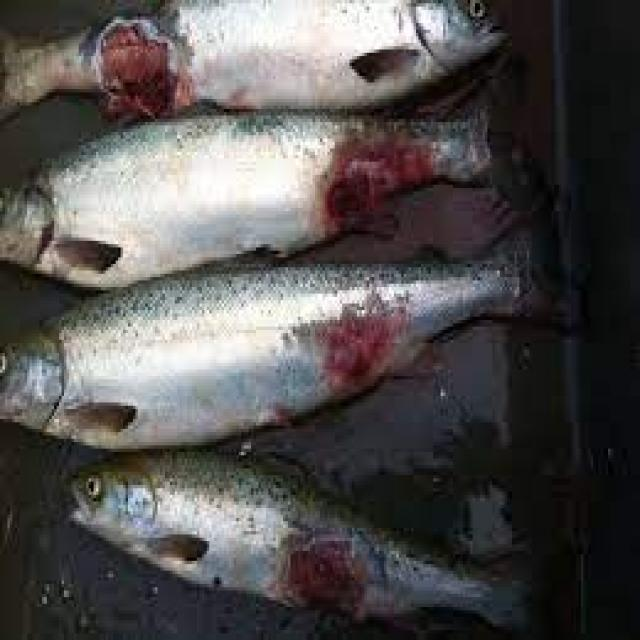EUS Disease: (12, 2, 534, 640), (181, 512, 452, 640), (261, 110, 513, 242), (287, 265, 458, 428), (8, 16, 232, 122)
